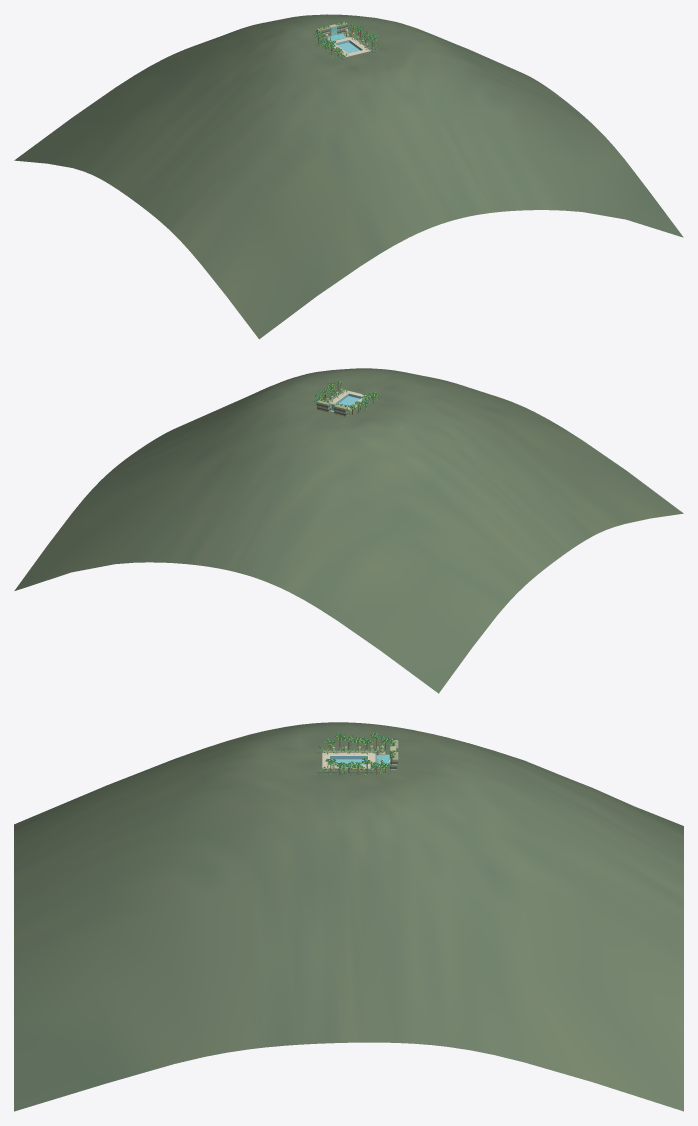
File: ruins.glb
3 views of the same model, one above another, from view 1: azimuth 30°, elevation 25°; view 2: azimuth 150°, elevation 25°; view 3: azimuth 270°, elevation 25° (orthographic). The views are drawn at different scales.
Parts seen in each view (by area): view 1: Architecture, Wind; view 2: Architecture, Wind; view 3: Architecture, Wind.
Boxes of the visible parts, box(x1,y1,x2,y2) form: Architecture: box(14, 14, 683, 339); Wind: box(313, 21, 380, 59); Architecture: box(14, 368, 683, 693); Wind: box(313, 380, 381, 414); Architecture: box(14, 722, 683, 1111); Wind: box(318, 733, 395, 775).
Size of the model in its own units: 440 by 162 by 440.
